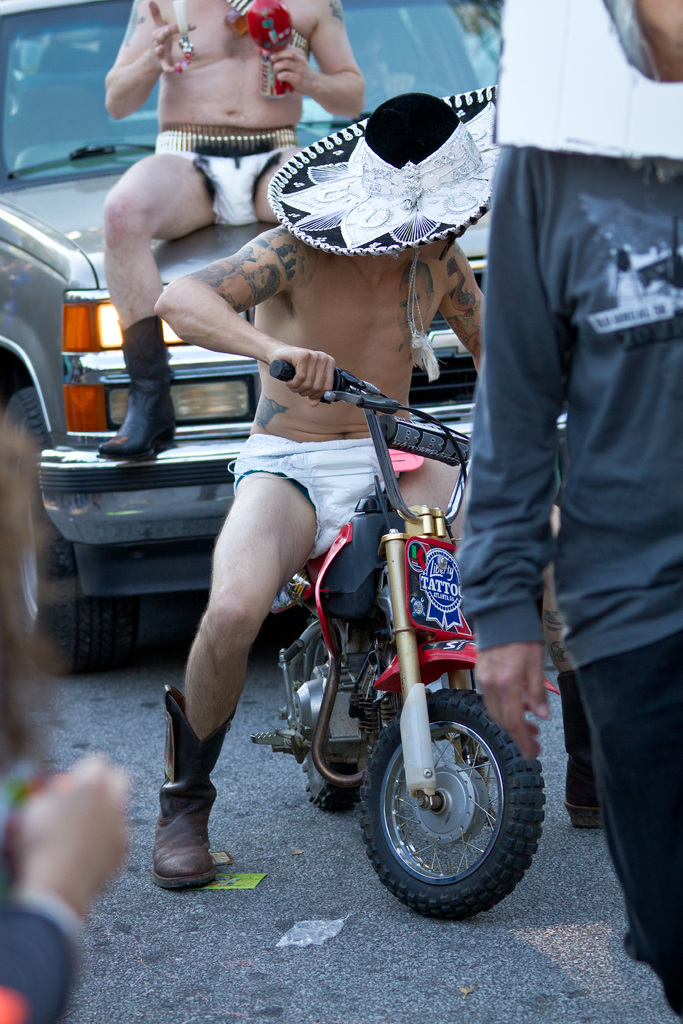Car: (0, 0, 497, 672)
